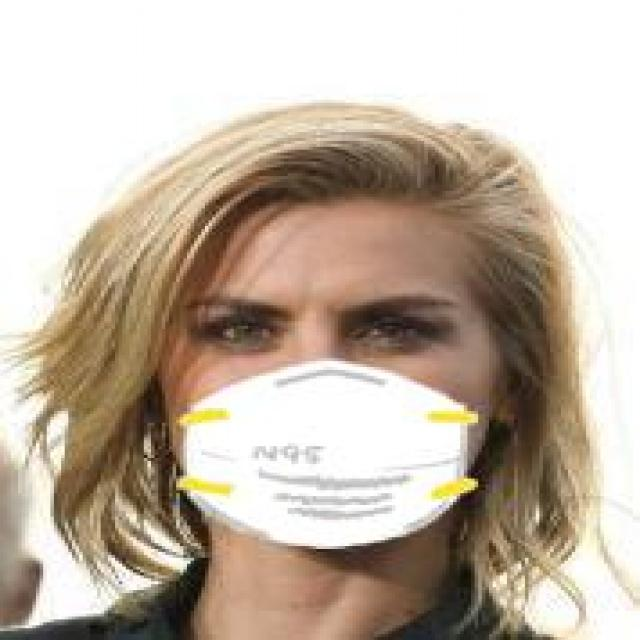mask: (65, 94, 568, 599)
